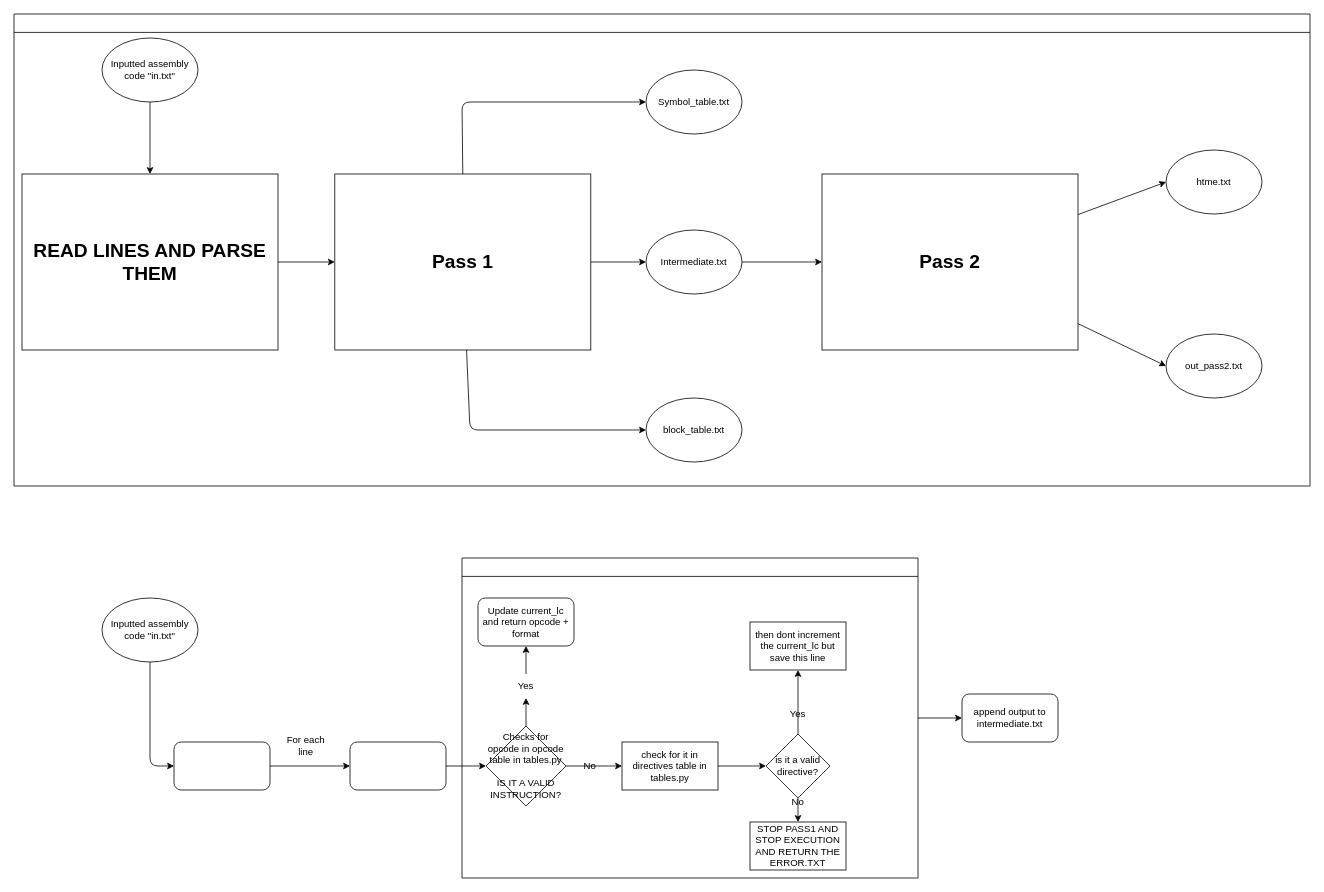
The diagram is 1324 pixels wide and 892 high, and some of its shapes have lost their labels. Each missing label, with the box of its shape:
dataclass object "line": (349, 741, 446, 790)
parser.py: (173, 741, 270, 790)
Processes in parser.py: (461, 557, 918, 878)
System Pipeline: (13, 13, 1310, 486)
